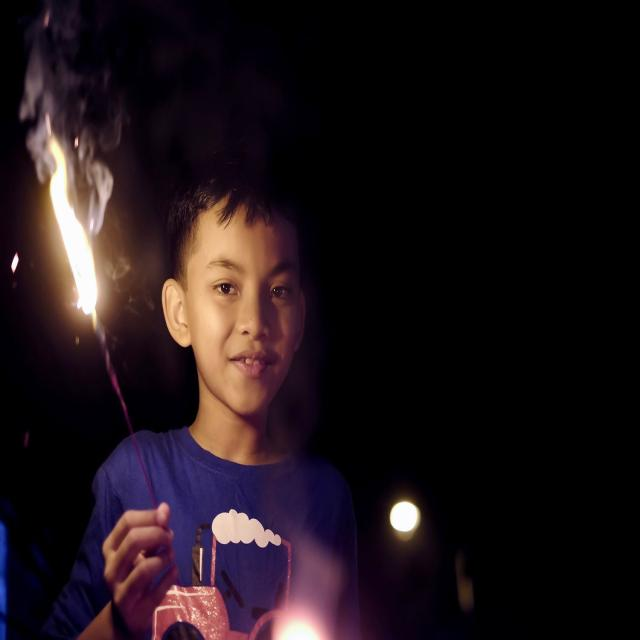fire: (44, 112, 97, 315)
